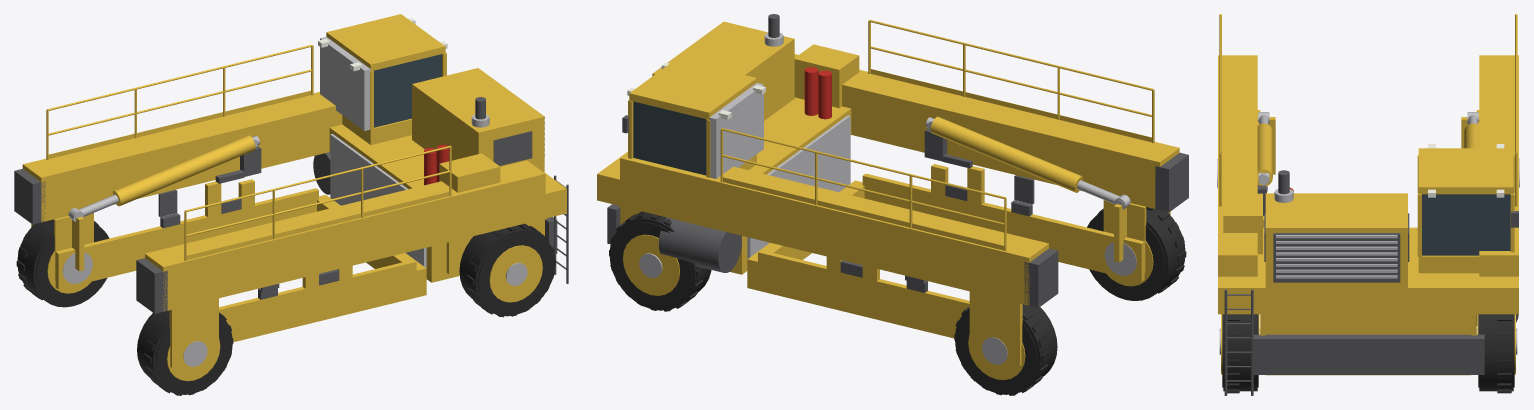
File: SM_SlagPotCarrier.fbx
3 renders of one model, left to right at view 1: azimuth 30°, elevation 25°; view 2: azimuth 150°, elevation 25°; view 3: azimuth 270°, elevation 25°, orthographic. The views are drawn at different scales.
Parts seen in each view (by area): view 1: CAR_Frame, CAR_Cradle, CAR_Cab, CAR_PowerModule, CAR_Wheel_FR, CAR_Wheel_RR, CAR_Wheel_RL, CAR_LiftCyl_L_Barrel; view 2: CAR_Frame, CAR_Cradle, CAR_Cab, CAR_PowerModule, CAR_Wheel_FL, CAR_Wheel_RL, CAR_Wheel_RR, CAR_LiftCyl_R_Barrel; view 3: CAR_Frame, CAR_PowerModule, CAR_Cab, CAR_Wheel_FL, CAR_Wheel_FR, CAR_LiftCyl_R_Barrel, CAR_Cradle, CAR_LiftCyl_L_Barrel.
Boxes of the visible parts, <box> form: CAR_Frame: <box>14,44,568,367</box>; CAR_Cradle: <box>55,170,426,342</box>; CAR_Cab: <box>318,14,447,144</box>; CAR_PowerModule: <box>412,68,544,185</box>; CAR_Wheel_FR: <box>459,223,555,317</box>; CAR_Wheel_RR: <box>137,310,233,395</box>; CAR_Wheel_RL: <box>16,219,109,307</box>; CAR_LiftCyl_L_Barrel: <box>112,135,260,206</box>; CAR_Frame: <box>597,20,1188,365</box>; CAR_Cradle: <box>747,154,1144,338</box>; CAR_Cab: <box>622,58,765,178</box>; CAR_PowerModule: <box>652,14,831,120</box>; CAR_Wheel_FL: <box>609,211,711,311</box>; CAR_Wheel_RL: <box>954,304,1057,395</box>; CAR_Wheel_RR: <box>1087,207,1186,300</box>; CAR_LiftCyl_R_Barrel: <box>925,116,1083,192</box>; CAR_Frame: <box>1217,14,1519,395</box>; CAR_PowerModule: <box>1264,170,1409,287</box>; CAR_Cab: <box>1417,144,1518,273</box>; CAR_Wheel_FL: <box>1476,314,1517,393</box>; CAR_Wheel_FR: <box>1219,314,1260,393</box>; CAR_LiftCyl_R_Barrel: <box>1257,123,1272,185</box>; CAR_Cradle: <box>1257,112,1479,227</box>; CAR_LiftCyl_L_Barrel: <box>1464,123,1479,148</box>.
Size of the model in its own units: 982 by 444 by 572.
